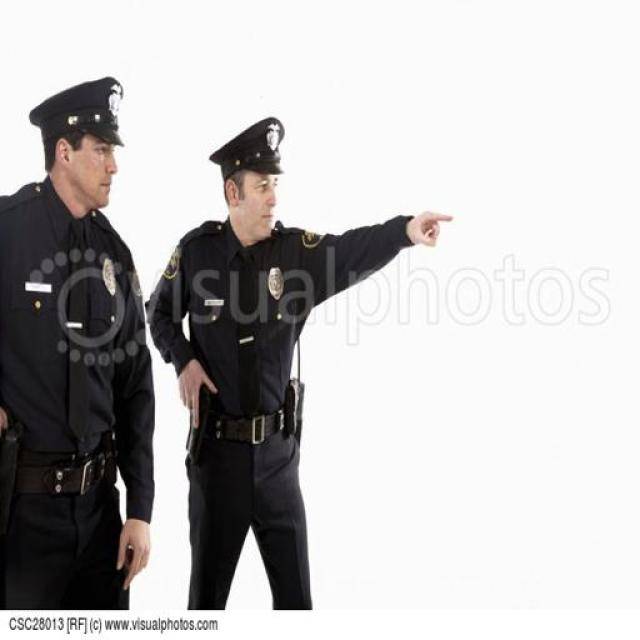pistol: (181, 381, 211, 470)
